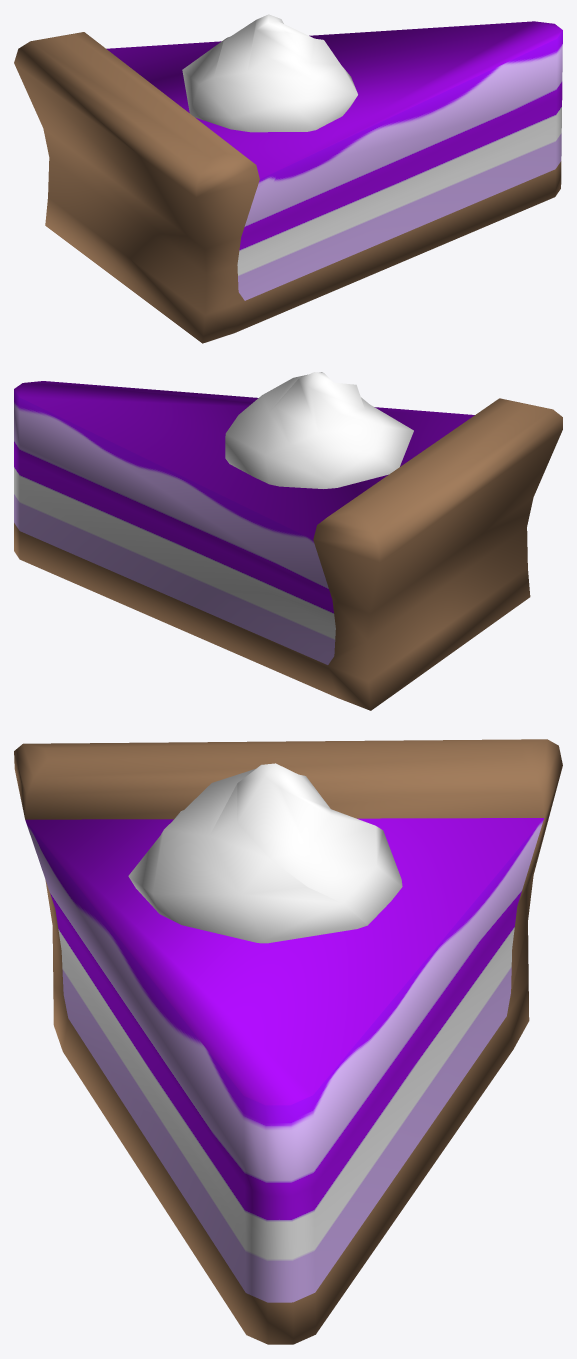
File: purple_cakepiece.glb
3 renders of one model, top to bottom at view 1: azimuth 30°, elevation 25°; view 2: azimuth 150°, elevation 25°; view 3: azimuth 270°, elevation 25°, orthographic. The views are drawn at different scales.
Parts seen in each view (by area): view 1: Purple_Cakepiece; view 2: Purple_Cakepiece; view 3: Purple_Cakepiece.
Part boxes in pixels (left/top/right/bottom): Purple_Cakepiece: left=14, top=14, right=562, bottom=343; Purple_Cakepiece: left=14, top=372, right=562, bottom=710; Purple_Cakepiece: left=14, top=739, right=562, bottom=1344.
Bounding box in the file's own units: 0.6811 × 0.3512 × 0.4754.
1 material, 1 textured.
